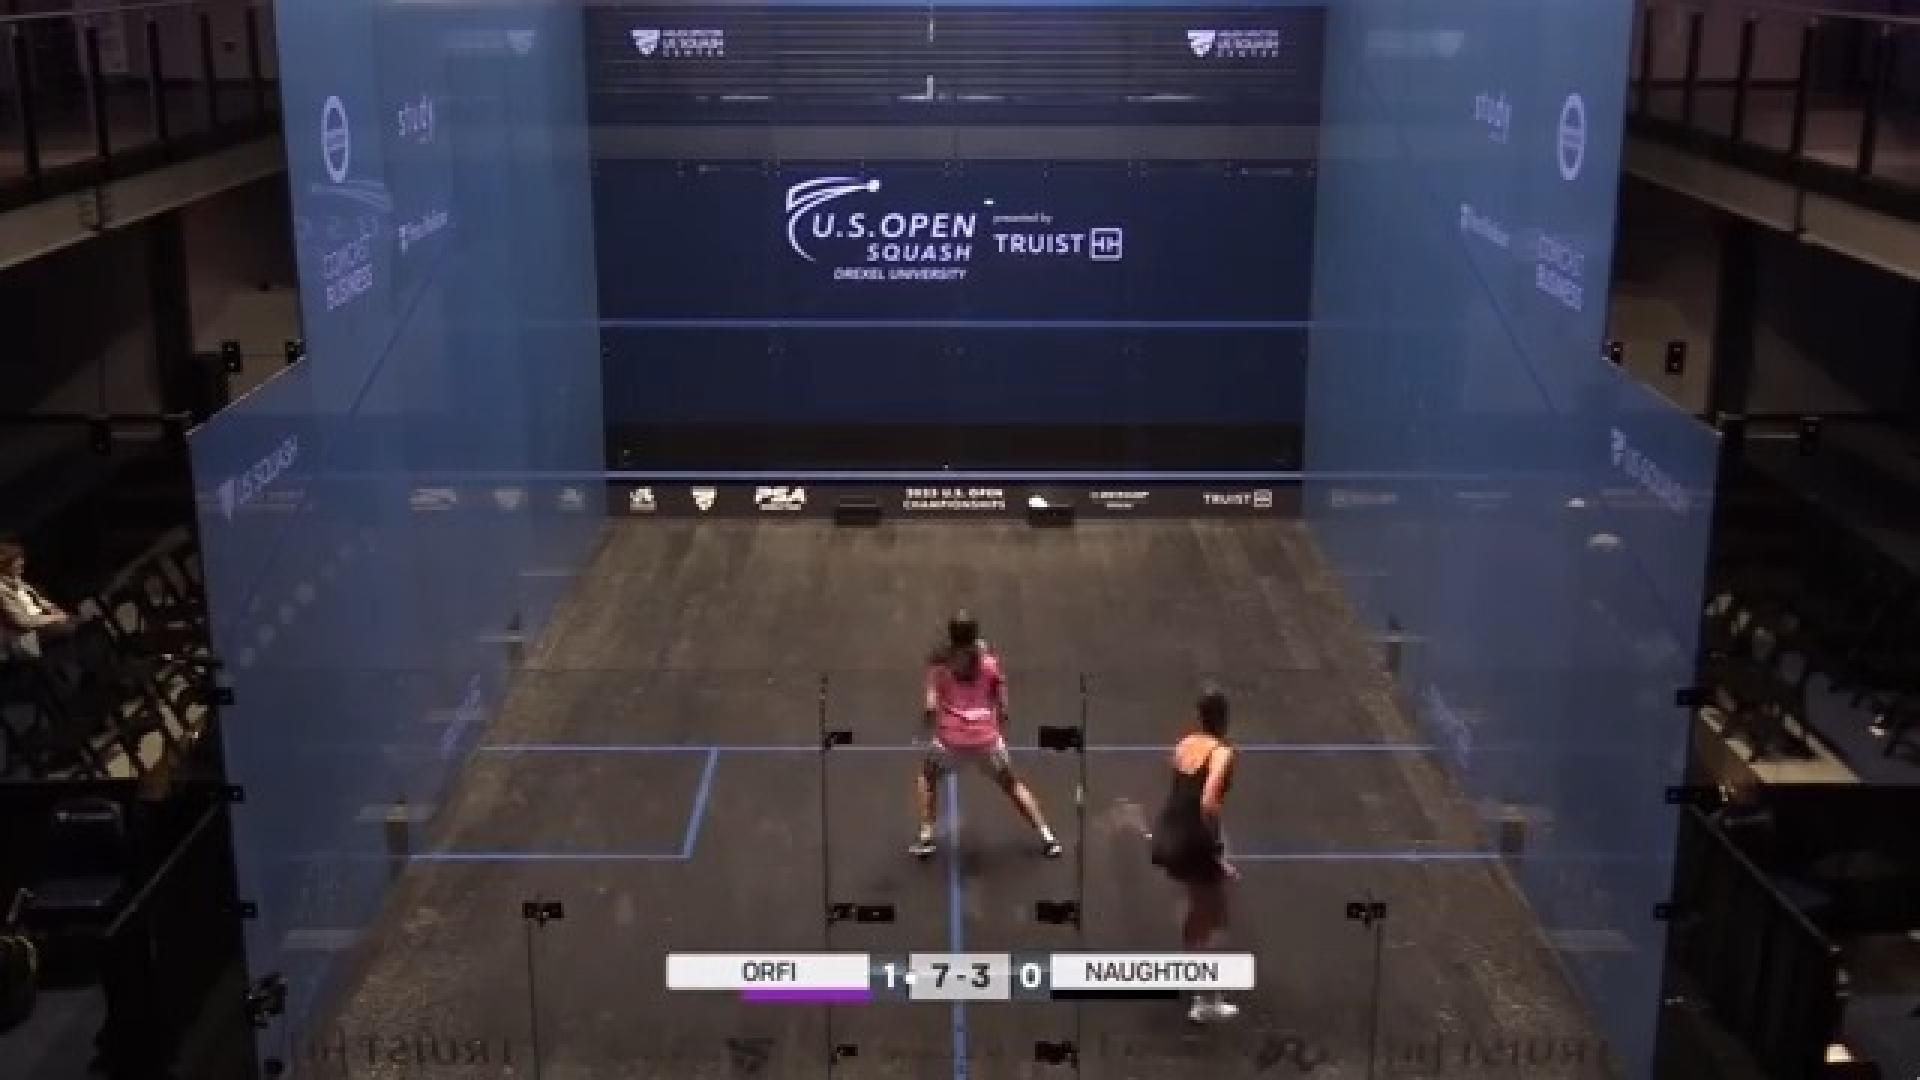Squash-Ball: (977, 194, 1001, 210)
